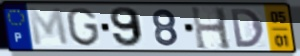8: (151, 8, 181, 49)
9: (109, 6, 146, 50)
D: (228, 8, 266, 50)
G: (65, 7, 102, 48)
H: (189, 5, 234, 51)
M: (27, 7, 72, 48)
